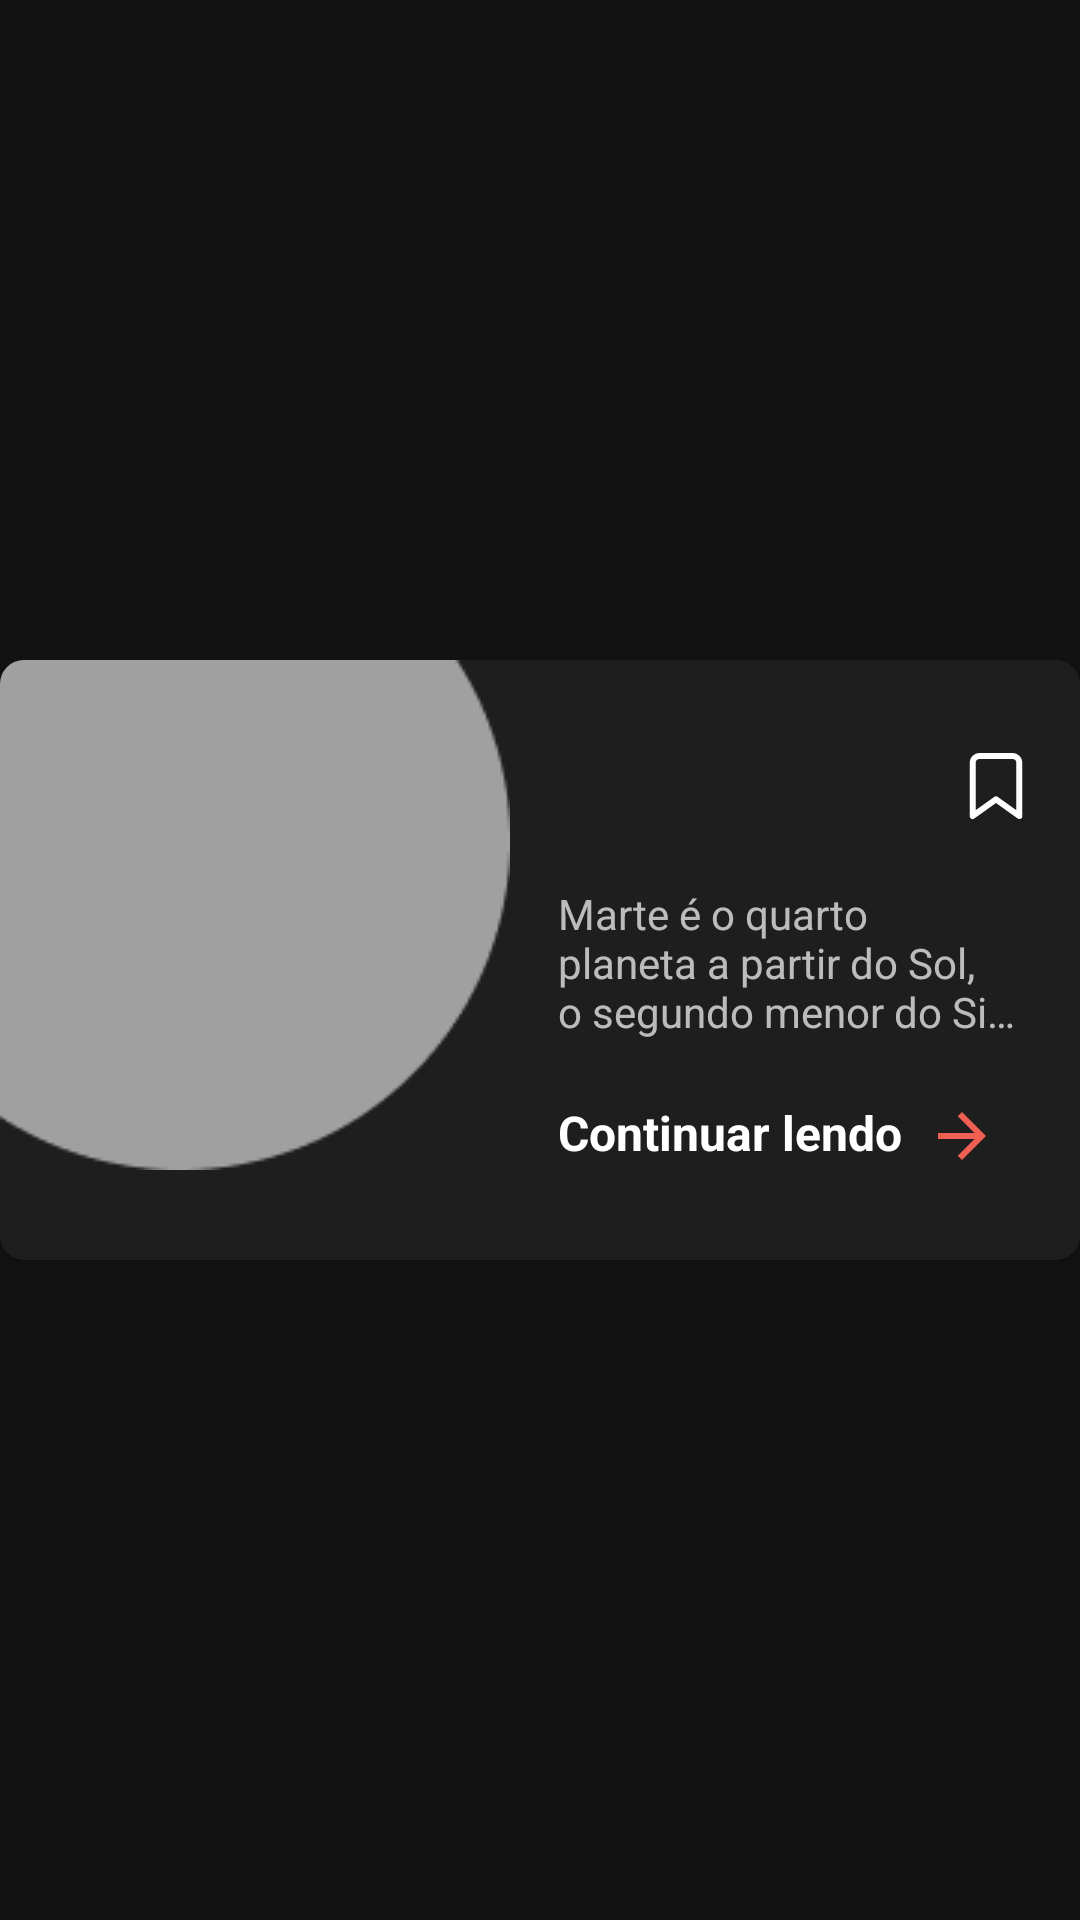

Where to tap for icons on this 1080×1920 app screen, as point (x, y):
arrow right: point (962, 1136)
bookmark: point (996, 786)
